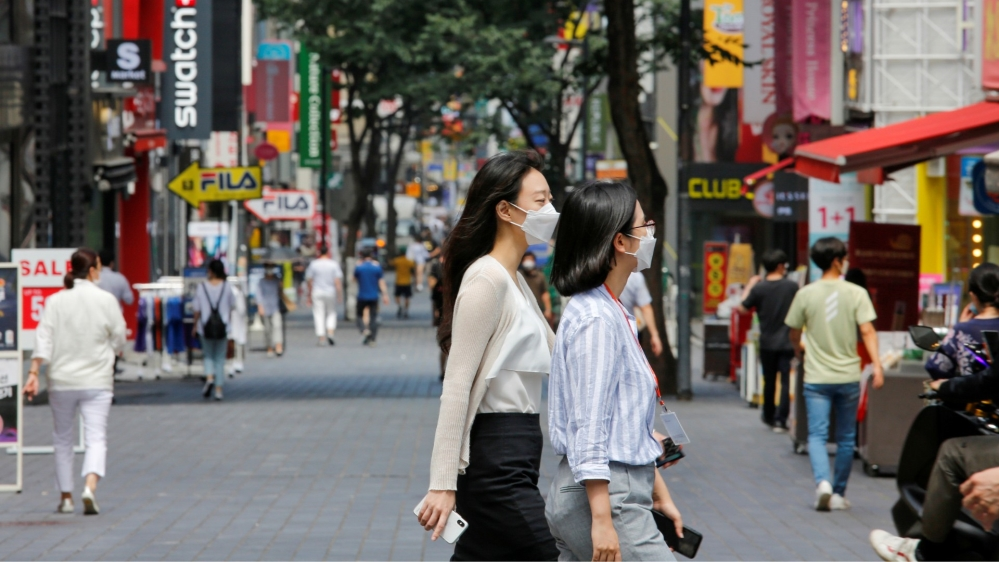with_mask: (523, 185, 554, 241), (635, 220, 655, 271)
